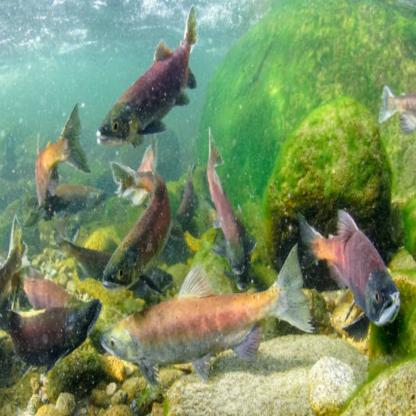sockeye: (105, 270, 308, 358), (99, 10, 198, 143), (303, 210, 388, 325), (24, 105, 103, 214), (107, 150, 161, 286), (3, 295, 102, 365), (206, 136, 248, 285)
